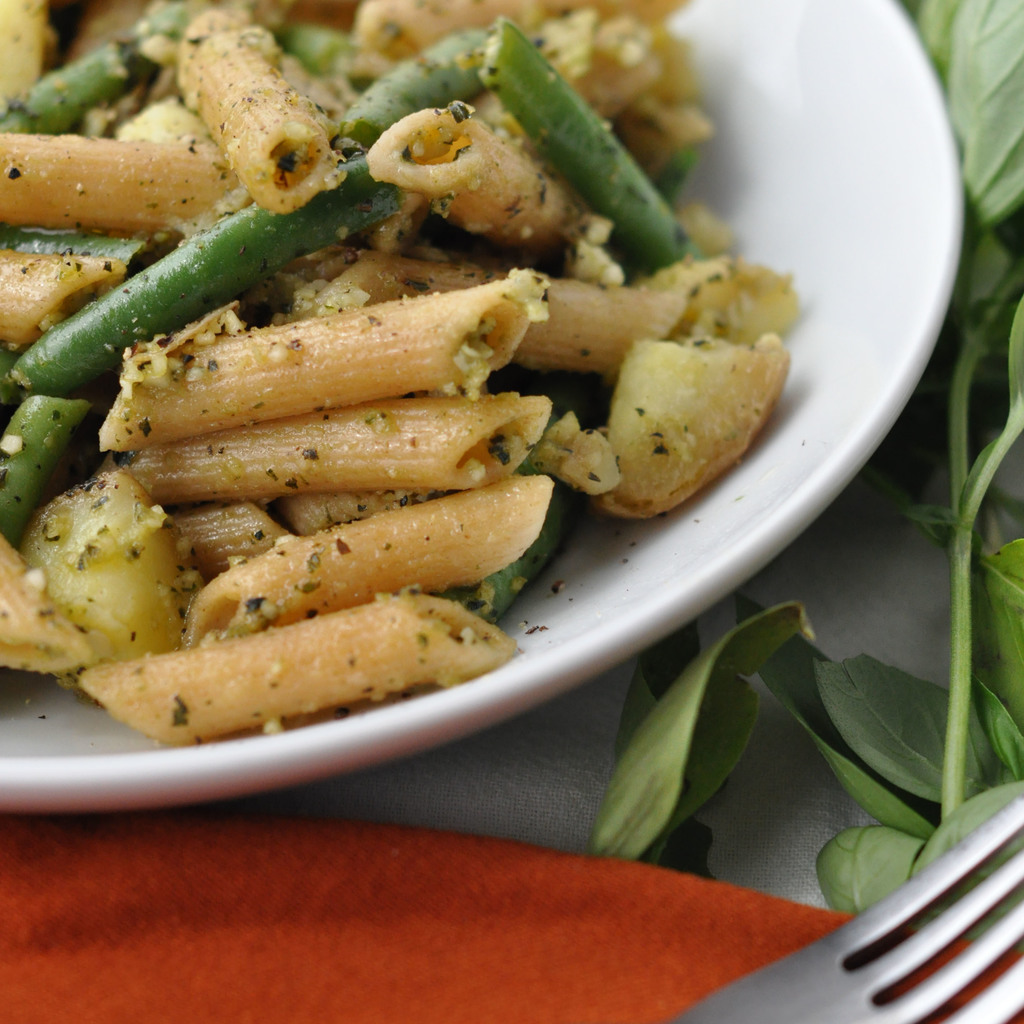pasta: (0, 0, 828, 844)
